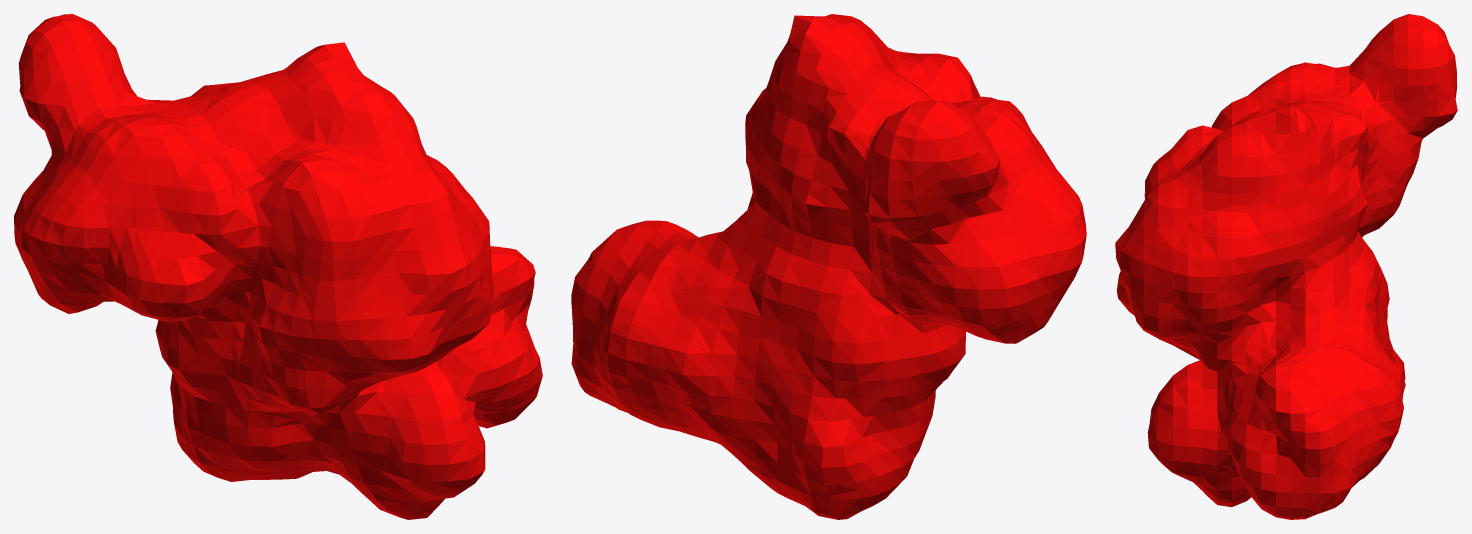
The model's file is nagC_coarse.dae.
The picture shows the model from 3 angles, left to right: view 1: azimuth 30°, elevation 25°; view 2: azimuth 150°, elevation 25°; view 3: azimuth 270°, elevation 25°; orthographic projection. The views are drawn at different scales.
Visible parts, largest first — view 1: nagC; view 2: nagC; view 3: nagC.
Part boxes in pixels (box(x1,y1,x2,y2)): nagC: box(14, 14, 542, 519); nagC: box(571, 14, 1086, 519); nagC: box(1115, 14, 1457, 519).
Size of the model in its own units: 76.39 by 70.15 by 55.5.
